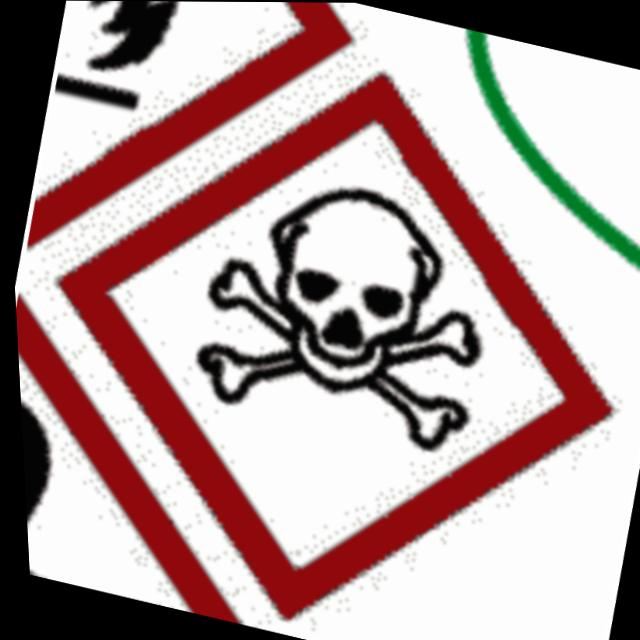acute toxicity: (174, 157, 512, 469)
